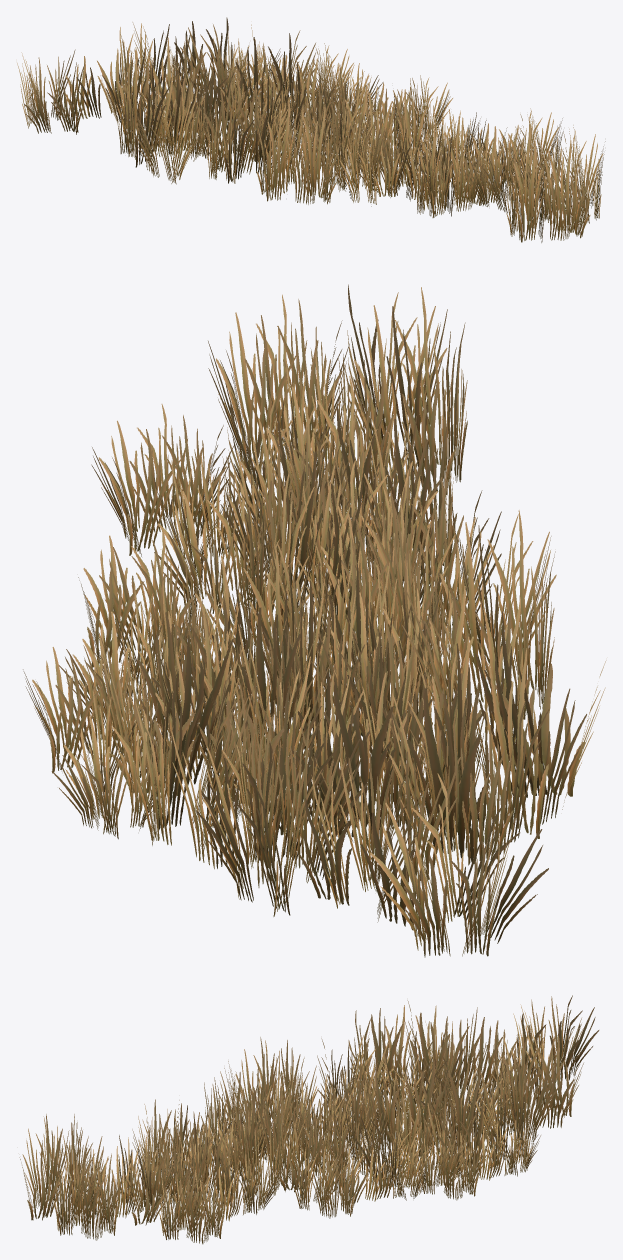
Rendered from Area_11_7.fbx.
3 renders of one model, top to bottom at view 1: azimuth 30°, elevation 25°; view 2: azimuth 150°, elevation 25°; view 3: azimuth 270°, elevation 25°, orthographic. The views are drawn at different scales.
Parts seen in each view (by area): view 1: Area_11_7; view 2: Area_11_7; view 3: Area_11_7.
Boxes of the visible parts, x1,y1,x2,y2 form: Area_11_7: [17, 17, 605, 242]; Area_11_7: [23, 284, 606, 957]; Area_11_7: [19, 995, 599, 1244].
Size of the model in its own units: 1069 by 238 by 1325.
Materials: 1 (1 with a texture image).
